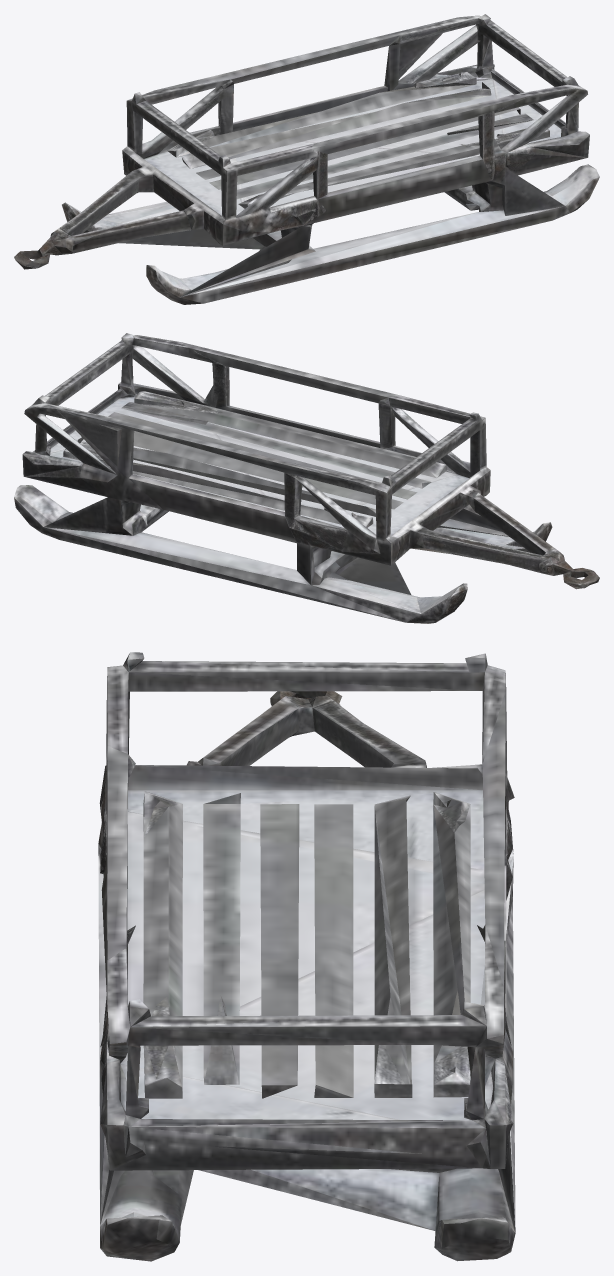
File: cargo_sled.glb
The picture shows the model from 3 angles, top to bottom: view 1: azimuth 30°, elevation 25°; view 2: azimuth 150°, elevation 25°; view 3: azimuth 270°, elevation 25°; orthographic projection. The views are drawn at different scales.
Parts seen in each view (by area): view 1: Mesh_0; view 2: Mesh_0; view 3: Mesh_0.
Part boxes in pixels (box(x1,y1,x2,y2)): Mesh_0: box(14, 14, 599, 304); Mesh_0: box(14, 333, 599, 623); Mesh_0: box(98, 652, 515, 1261).
Size of the model in its own units: 1.9 by 0.4721 by 0.6376.
Materials: 1 (1 with a texture image).
